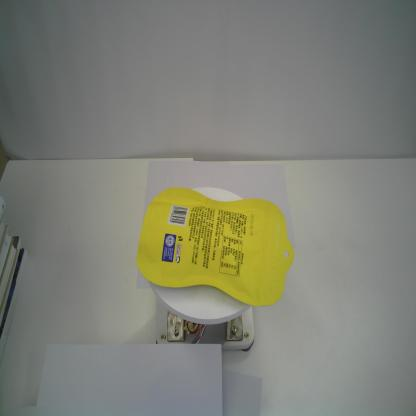Dried Fruit: (136, 187, 295, 307)
